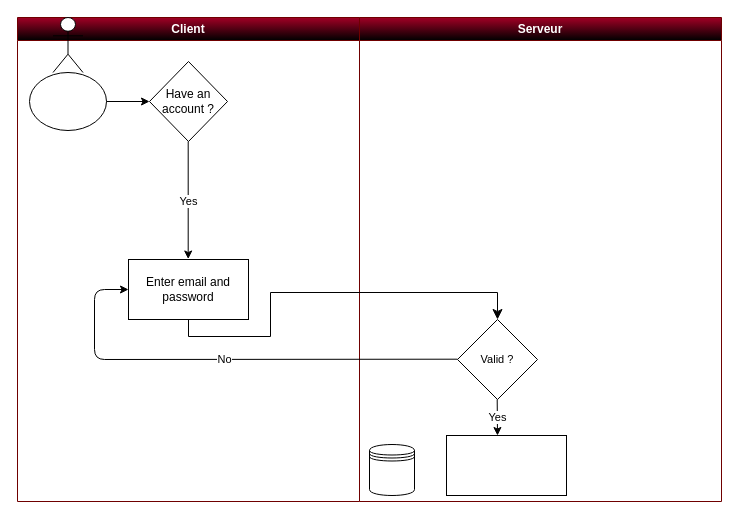
The diagram is 739 pixels wide and 519 high, and some of its shapes have lost their labels. The centre of each missing label's shape, as x and y in pixels:
Website Access: point 67,101
Website Display: point 506,465
